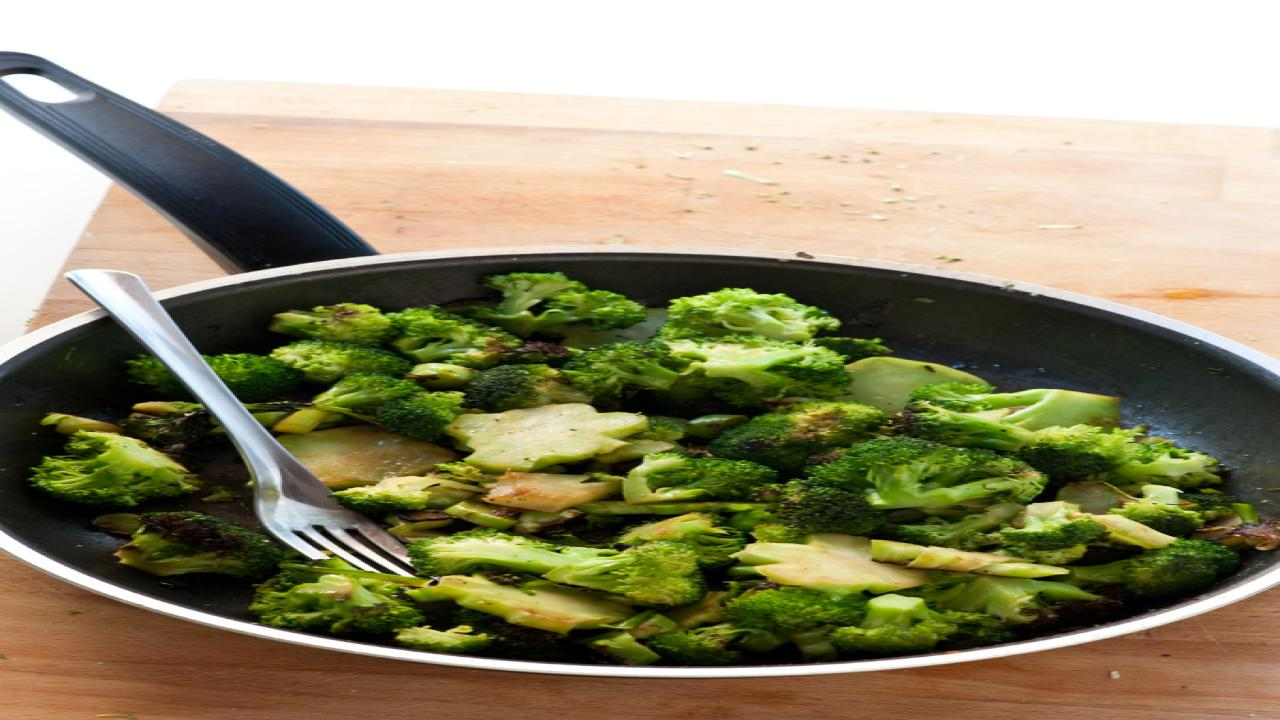fork: (62, 267, 435, 585)
